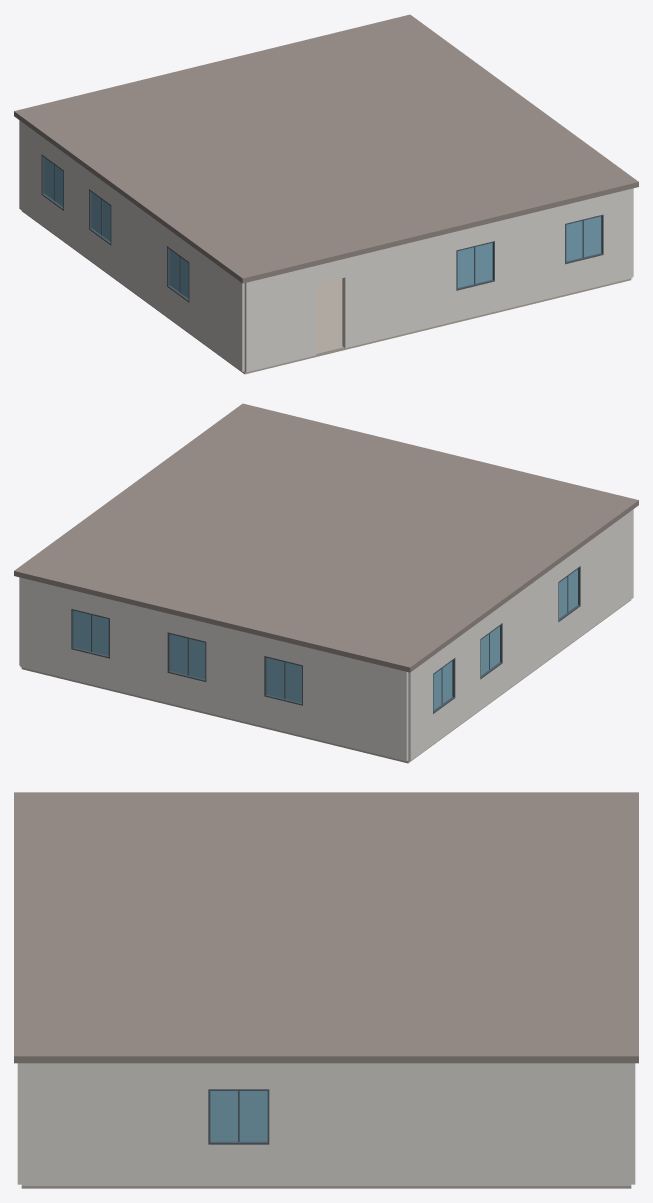
Rendered from gwc-villa-03305205ef.glb.
3 views of the same model, one above another, from view 1: azimuth 30°, elevation 25°; view 2: azimuth 150°, elevation 25°; view 3: azimuth 270°, elevation 25° (orthographic). The views are drawn at different scales.
Visible parts, largest first — view 1: roof_0, wall_0_12, wall_0_11, wall_0_13, wall_0_18, wall_0_17, floor_slab_0, wall_0_14, wall_0_16, wall_0_15, window_0_8_pane, window_0_6_pane (+11 smaller); view 2: roof_0, wall_0_0, wall_0_1, wall_0_2, wall_0_17, wall_0_18, wall_0_3, wall_0_16, wall_0_15, window_0_1_pane, window_0_2_pane, window_0_3_pane (+13 smaller); view 3: roof_0, wall_0_29, wall_0_30, window_0_7_pane, wall_0_56, floor_slab_0, wall_0_55, wall_0_3, wall_0_14.
Part boxes in pixels (x1,y1,x2,y2): roof_0: [14, 14, 638, 283]; wall_0_12: [342, 231, 456, 348]; wall_0_11: [244, 266, 316, 372]; wall_0_13: [495, 205, 564, 311]; wall_0_18: [189, 245, 244, 371]; wall_0_17: [111, 188, 166, 316]; floor_slab_0: [22, 211, 631, 374]; wall_0_14: [603, 188, 632, 284]; wall_0_16: [64, 153, 88, 259]; wall_0_15: [19, 120, 41, 224]; window_0_8_pane: [566, 216, 601, 261]; window_0_6_pane: [457, 243, 492, 287]; roof_0: [14, 403, 638, 672]; wall_0_0: [303, 646, 408, 761]; wall_0_1: [206, 623, 264, 726]; wall_0_2: [110, 599, 167, 702]; wall_0_17: [502, 564, 558, 693]; wall_0_18: [580, 509, 633, 635]; wall_0_3: [20, 577, 71, 679]; wall_0_16: [455, 621, 480, 727]; wall_0_15: [408, 656, 432, 760]; window_0_1_pane: [267, 658, 301, 702]; window_0_2_pane: [170, 634, 205, 679]; window_0_3_pane: [73, 611, 108, 655]; roof_0: [14, 792, 638, 1063]; wall_0_29: [269, 1063, 631, 1185]; wall_0_30: [21, 1063, 208, 1185]; window_0_7_pane: [210, 1091, 267, 1141]; wall_0_56: [208, 1144, 269, 1185]; floor_slab_0: [21, 1186, 631, 1188]; wall_0_55: [208, 1063, 269, 1089]; wall_0_3: [631, 1063, 635, 1184]; wall_0_14: [17, 1063, 21, 1184].
Bounding box in the file's own units: 41 × 9.8 × 41.
